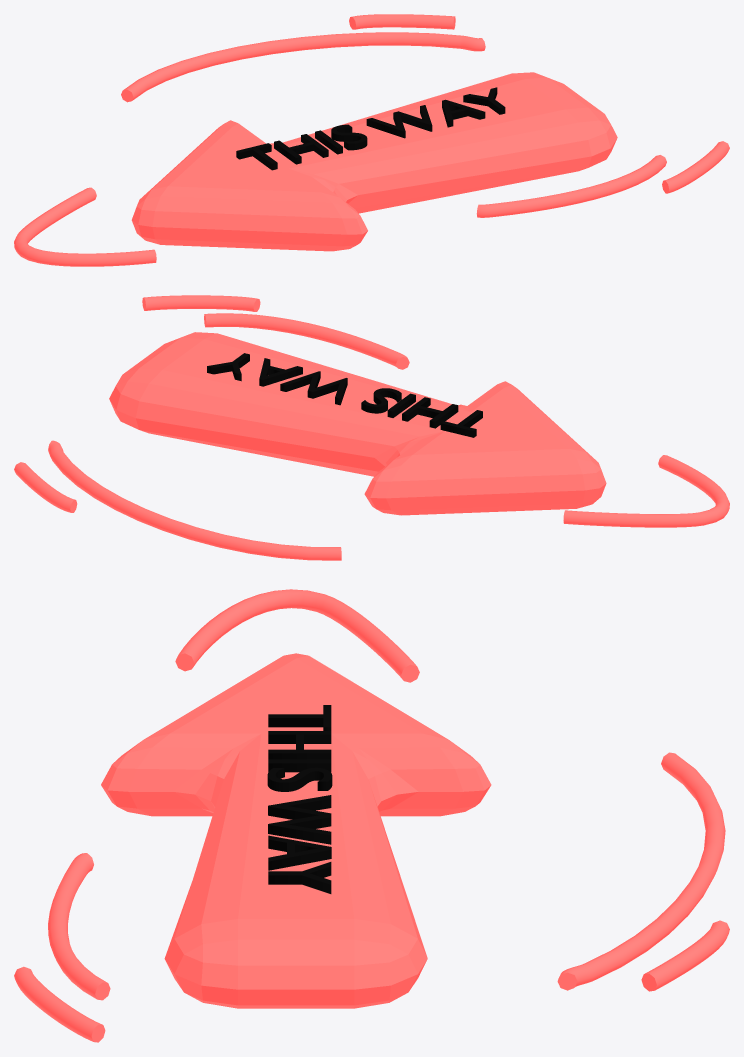
File: neon_sign.glb
3 renders of one model, top to bottom at view 1: azimuth 30°, elevation 25°; view 2: azimuth 150°, elevation 25°; view 3: azimuth 270°, elevation 25°, orthographic. The views are drawn at different scales.
Visible parts, largest first — view 1: Plane, BézierCurve, Text; view 2: Plane, BézierCurve, Text; view 3: Plane, BézierCurve, Text.
Boxes of the visible parts, left/top/right/bottom form: Plane: left=131, top=72, right=617, bottom=251; BézierCurve: left=14, top=14, right=729, bottom=266; Text: left=236, top=87, right=505, bottom=170; Plane: left=109, top=332, right=606, bottom=515; BézierCurve: left=14, top=295, right=729, bottom=560; Text: left=207, top=353, right=482, bottom=437; Plane: left=101, top=653, right=491, bottom=1008; BézierCurve: left=14, top=589, right=729, bottom=1042; Text: left=267, top=705, right=332, bottom=893.
Size of the model in its own units: 4.2 by 0.3931 by 2.87.
